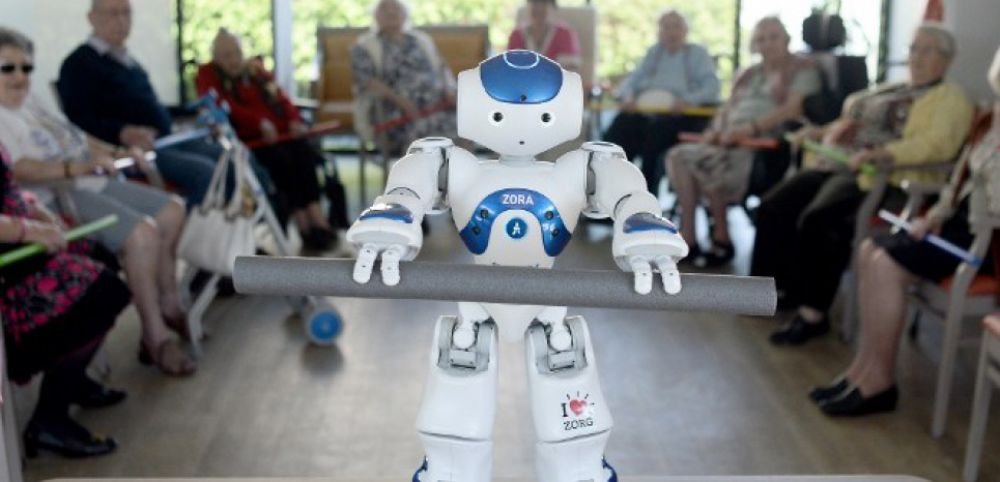nao: (330, 29, 777, 482)
